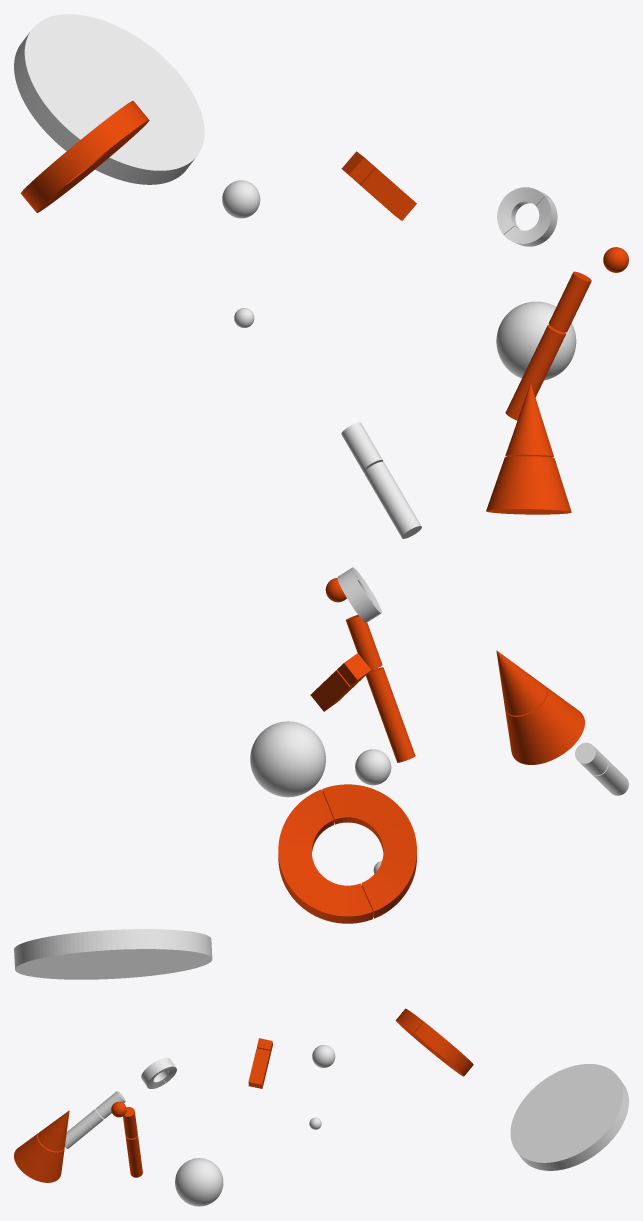
Rendered from floating_shapes3.glb.
The picture shows the model from 3 angles, top to bottom: view 1: azimuth 30°, elevation 25°; view 2: azimuth 150°, elevation 25°; view 3: azimuth 270°, elevation 25°; orthographic projection. The views are drawn at different scales.
Parts seen in each view (by area): view 1: Cylinder.002, Cylinder.007, Cylinder.006, Sphere.001, Cylinder.003, Cylinder.005, Cylinder.009, Cube.002, Sphere.003; view 2: Cylinder.006, Cylinder.002, Cylinder.007, Sphere.001, Cylinder.003, Cube.002, Cylinder.005, Cylinder.009, Sphere.003; view 3: Cylinder.002, Cylinder.007, Sphere.001, Cylinder.006, Cylinder.005, Cylinder.003, Cube.002, Cylinder.009, Sphere.003.
Part boxes in pixels (left/top/right/bottom): Cylinder.002: left=14, top=14, right=204, bottom=184; Cylinder.007: left=486, top=383, right=571, bottom=514; Cylinder.006: left=20, top=100, right=149, bottom=212; Sphere.001: left=496, top=301, right=576, bottom=380; Cylinder.003: left=505, top=271, right=591, bottom=420; Cylinder.005: left=341, top=422, right=421, bottom=538; Cylinder.009: left=497, top=187, right=557, bottom=246; Cube.002: left=341, top=151, right=416, bottom=220; Sphere.003: left=222, top=180, right=260, bottom=218; Cylinder.006: left=278, top=784, right=416, bottom=923; Cylinder.002: left=14, top=929, right=212, bottom=979; Cylinder.007: left=496, top=650, right=584, bottom=764; Sphere.001: left=250, top=721, right=325, bottom=797; Cylinder.003: left=345, top=615, right=415, bottom=762; Cube.002: left=310, top=653, right=370, bottom=711; Cylinder.005: left=575, top=742, right=628, bottom=795; Cylinder.009: left=337, top=567, right=381, bottom=622; Sphere.003: left=355, top=749, right=391, bottom=785; Cylinder.002: left=510, top=1064, right=628, bottom=1170; Cylinder.007: left=14, top=1110, right=69, bottom=1182; Sphere.001: left=175, top=1158, right=223, bottom=1206; Cylinder.006: left=395, top=1008, right=473, bottom=1076; Cylinder.005: left=65, top=1091, right=125, bottom=1148; Cylinder.003: left=123, top=1107, right=142, bottom=1177; Cube.002: left=248, top=1038, right=272, bottom=1088; Cylinder.009: left=141, top=1058, right=176, bottom=1088; Sphere.003: left=312, top=1045, right=335, bottom=1067.
Size of the model in its own units: 140 by 92.41 by 347.
